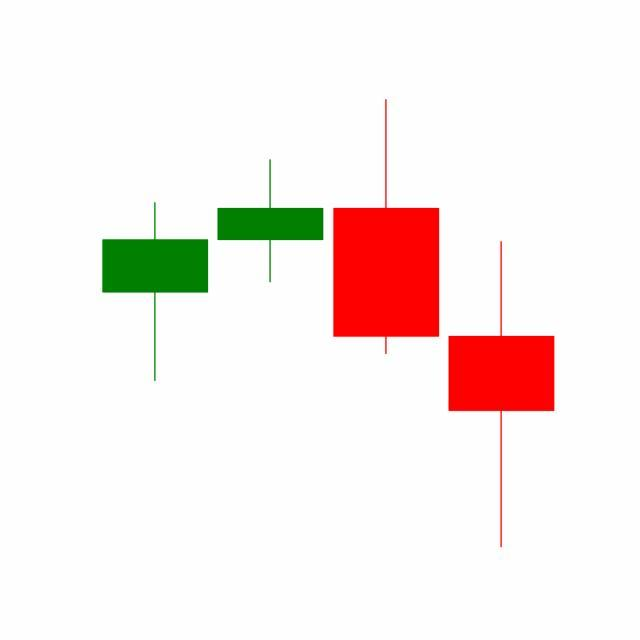Spinning Top: (444, 238, 560, 552)
